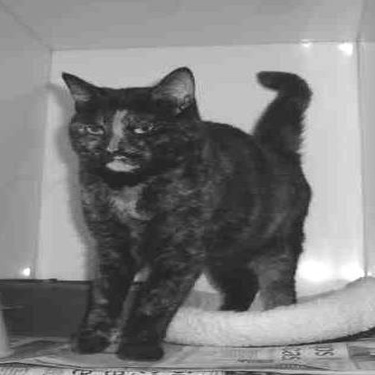cat: (45, 62, 331, 356)
